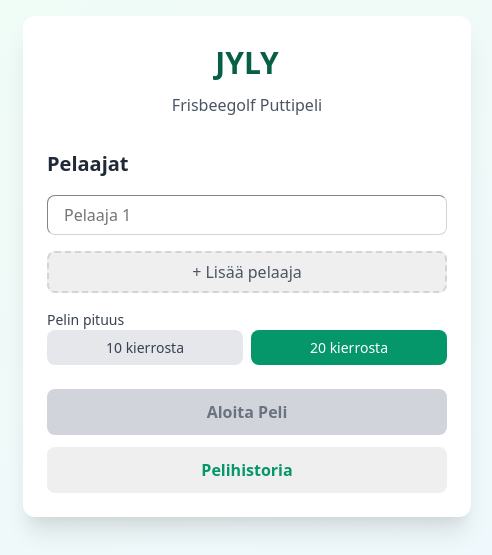
Scenario: JYLY Components › GameSetup Component › should validate player names before starting game
Expected: the button "Aloita Peli" is disabled, top-left (47, 389), bottom-right (447, 435)
// Lisää nimi
Type "Test Player" into the field with placeholder "Pelaaja 1" at (247, 215), box top-left (47, 195), bottom-right (447, 235)
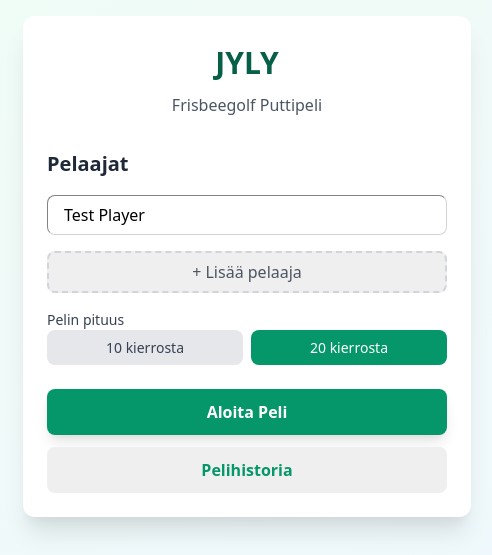
Result: the button "Aloita Peli" is enabled at top-left (47, 389), bottom-right (447, 435)
